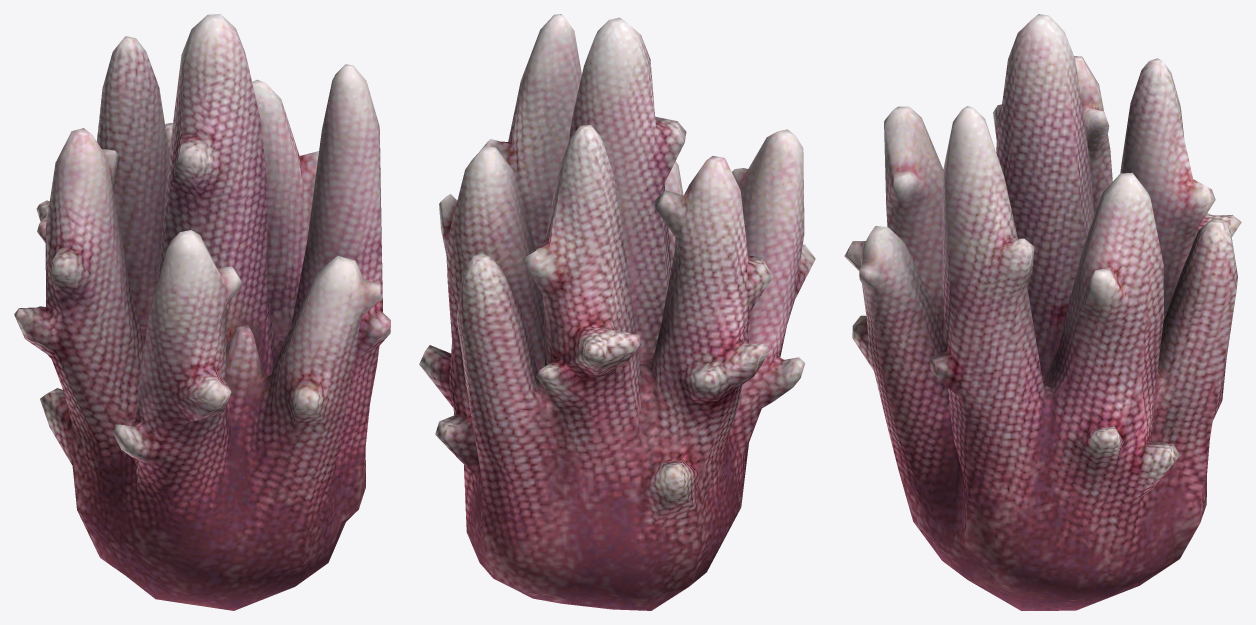
Rendered from Coral V1.fbx.
The picture shows the model from 3 angles, left to right: view 1: azimuth 30°, elevation 25°; view 2: azimuth 150°, elevation 25°; view 3: azimuth 270°, elevation 25°; orthographic projection. The views are drawn at different scales.
Visible parts, largest first — view 1: Coral V1; view 2: Coral V1; view 3: Coral V1.
Boxes of the visible parts, left/top/right/bottom form: Coral V1: left=14, top=14, right=390, bottom=610; Coral V1: left=419, top=14, right=815, bottom=610; Coral V1: left=844, top=14, right=1241, bottom=610.
Size of the model in its own units: 42.75 by 70.52 by 44.21.
